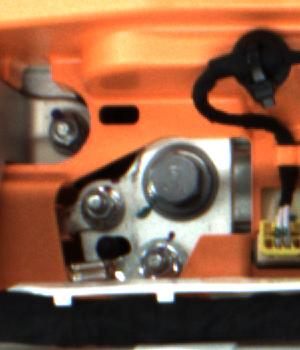nut_b: (139, 144, 222, 221)
